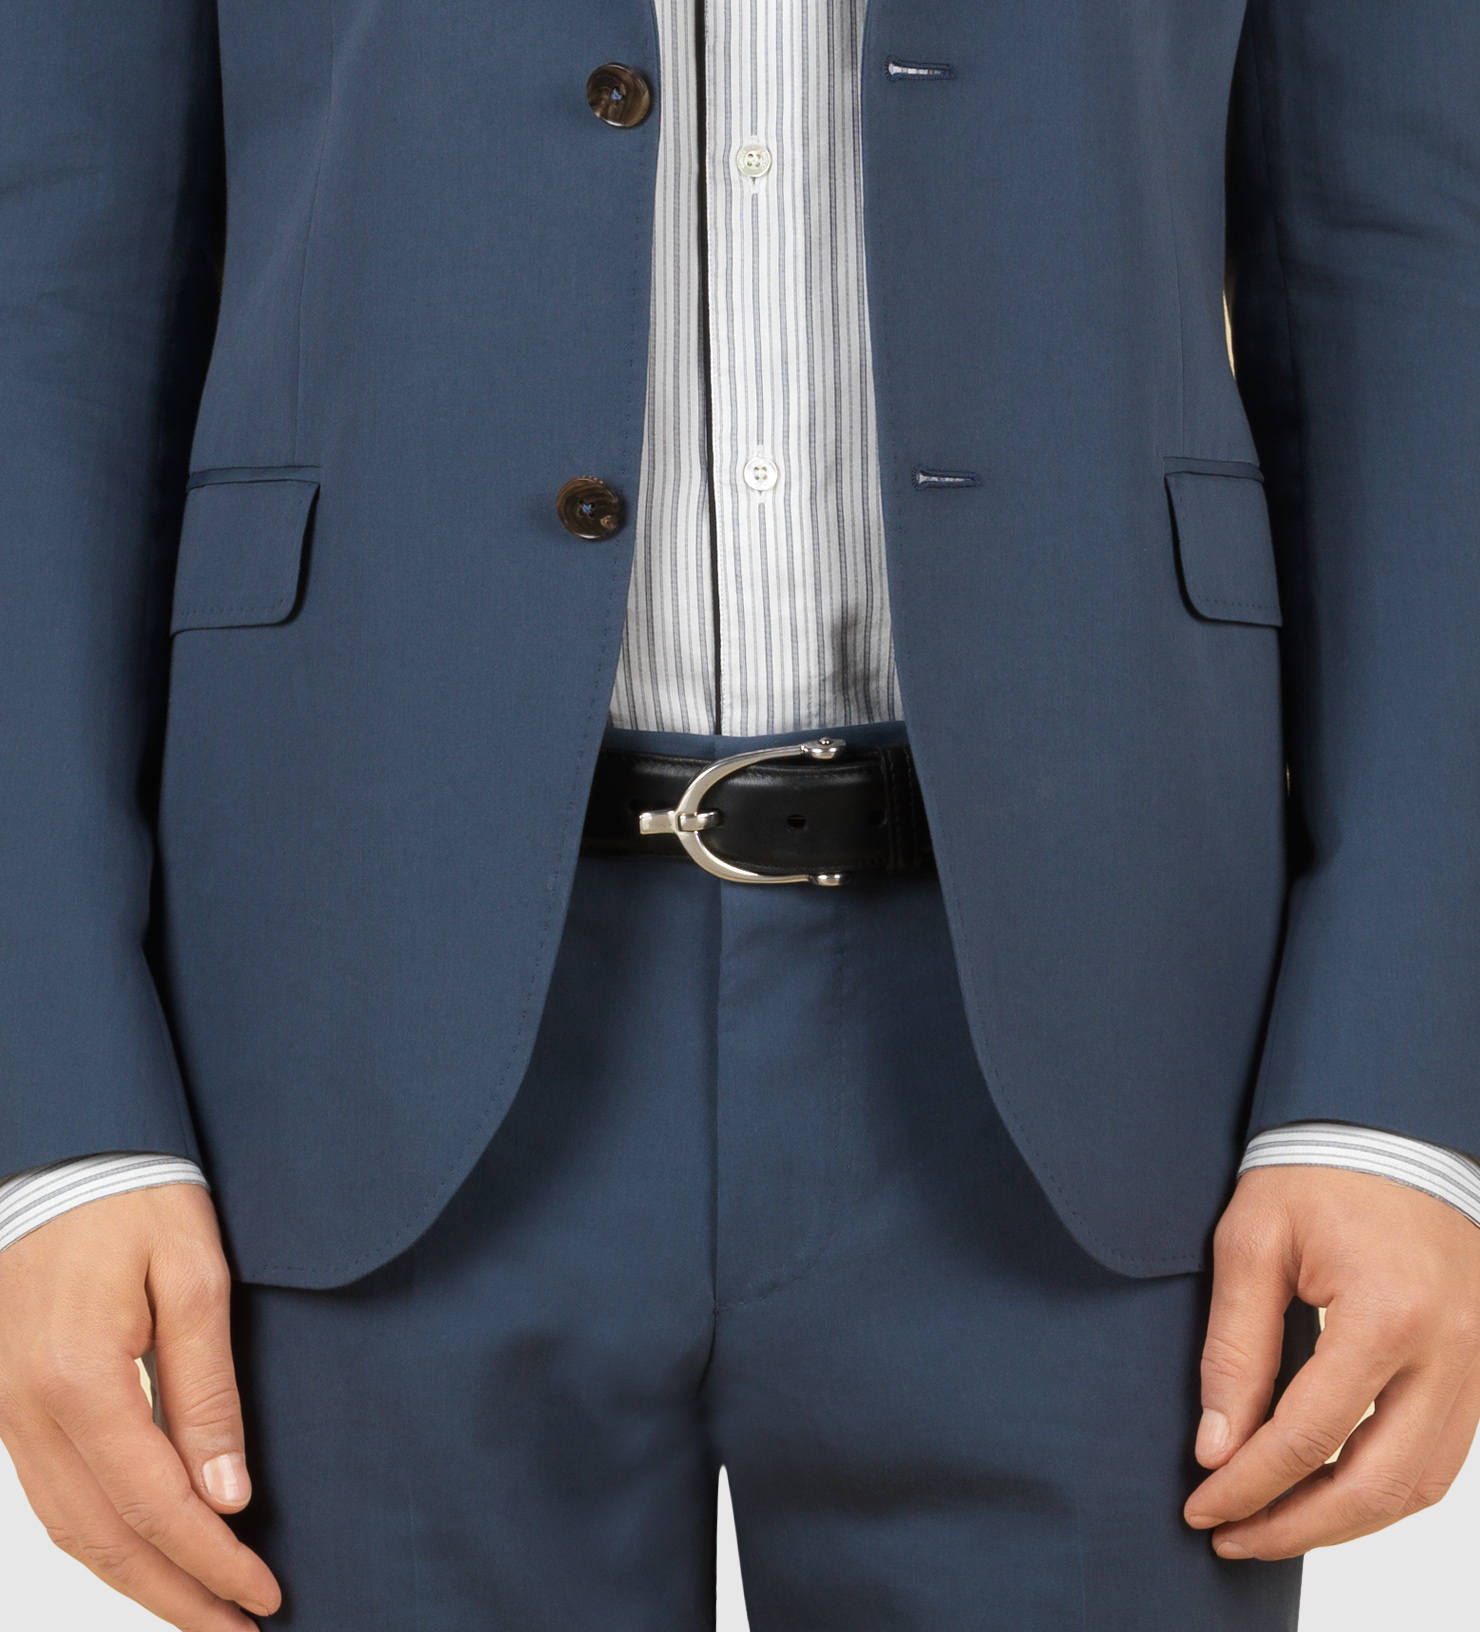F_M_suit jacket: (1, 18, 1480, 1281)
F_belt: (542, 719, 964, 945)
